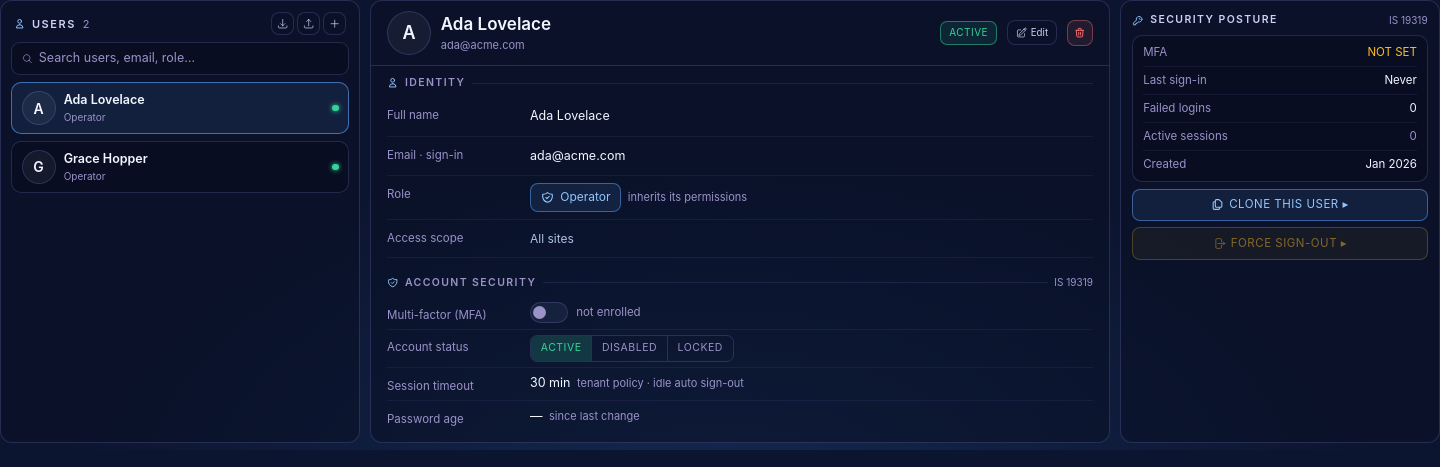
it: the list › filters by the search box without going back to the server
Type "grace" into the field with placeholder "Search users, email, role…" at (189, 58), box [39,49,339,68]
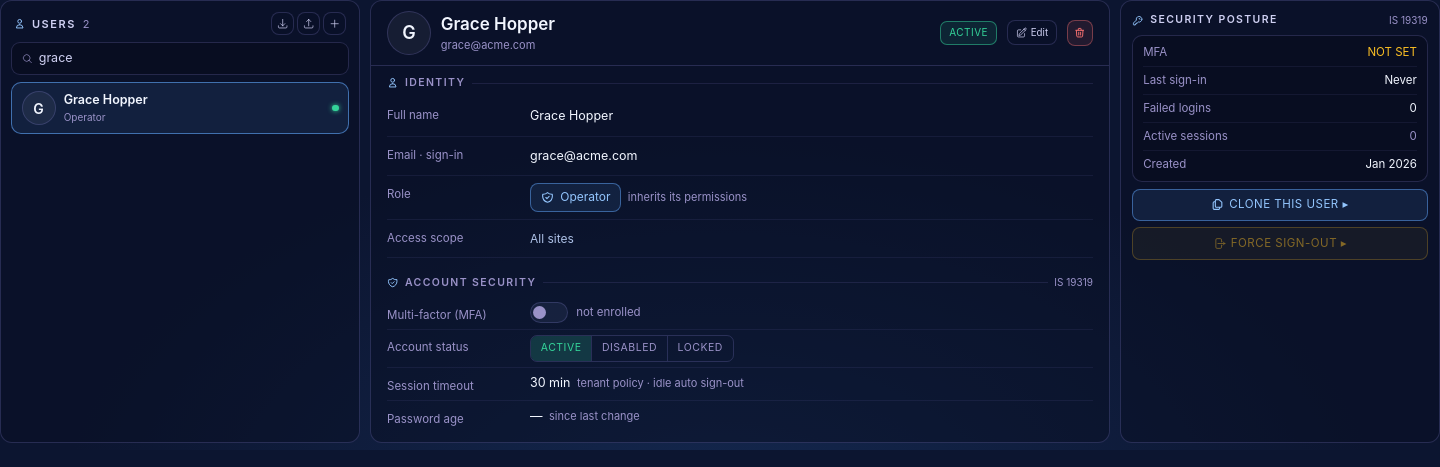
Expected: the text "Grace Hopper" below "Users" is shown, [64,92,148,107]
Result: the button "Ada Lovelace" is gone
